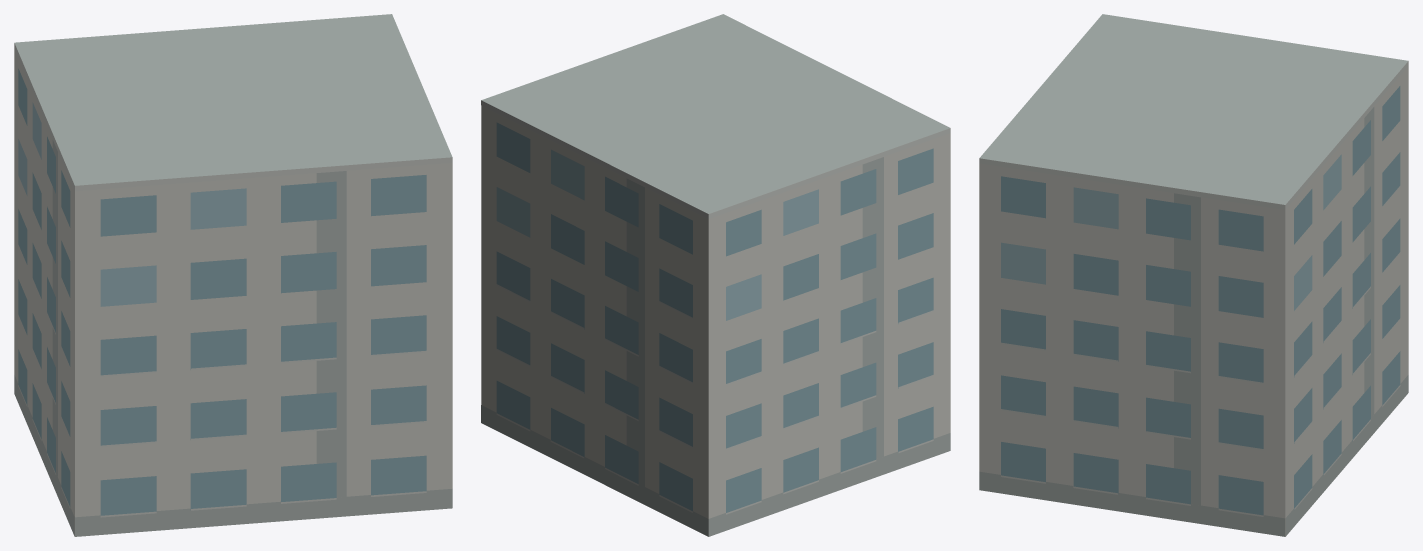
File: residential-56d82f96-7db7-47a9-8701-002ad57f64a8.glb
3 views of the same model, side by side, from view 1: azimuth 30°, elevation 25°; view 2: azimuth 150°, elevation 25°; view 3: azimuth 270°, elevation 25° (orthographic). The views are drawn at different scales.
Visible parts, largest first — view 1: residential-56d82f96-7db7-47a9-8701-002ad57f64a8.tmp; view 2: residential-56d82f96-7db7-47a9-8701-002ad57f64a8.tmp; view 3: residential-56d82f96-7db7-47a9-8701-002ad57f64a8.tmp.
Boxes of the visible parts, x1,y1,x2,y2 form: residential-56d82f96-7db7-47a9-8701-002ad57f64a8.tmp: (14, 14, 452, 536); residential-56d82f96-7db7-47a9-8701-002ad57f64a8.tmp: (481, 14, 950, 536); residential-56d82f96-7db7-47a9-8701-002ad57f64a8.tmp: (979, 14, 1408, 536).
Size of the model in its own units: 18.83 by 15.25 by 17.89.
